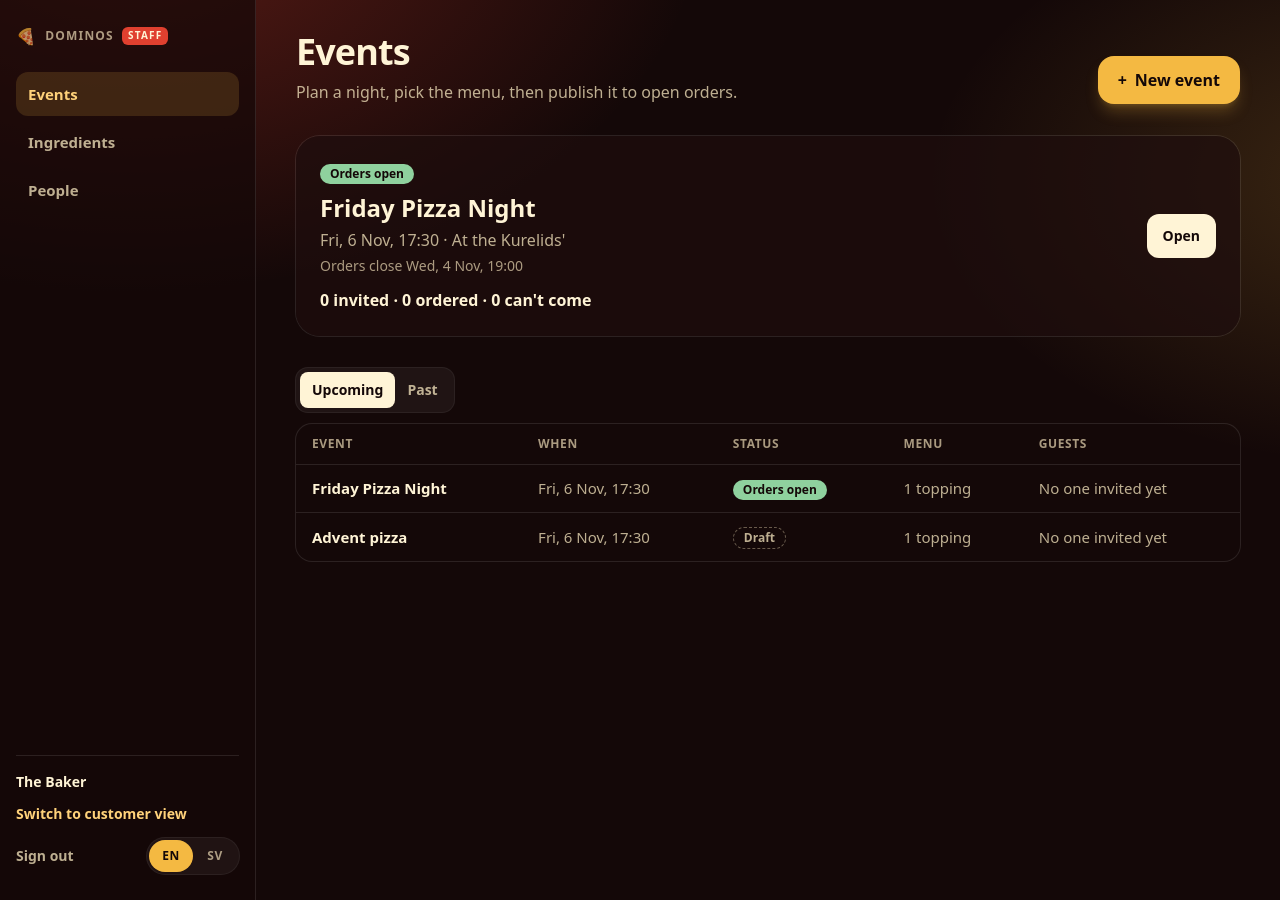
Test case: the events list › shows upcoming events with their status, and past ones on request
Check: the link "Friday Pizza Night" is shown, box [312, 478, 447, 498]
Check: the text "Draft" is shown, box [733, 527, 786, 549]
Click the radio button labelled "Past": (423, 390) [395, 372, 450, 408]
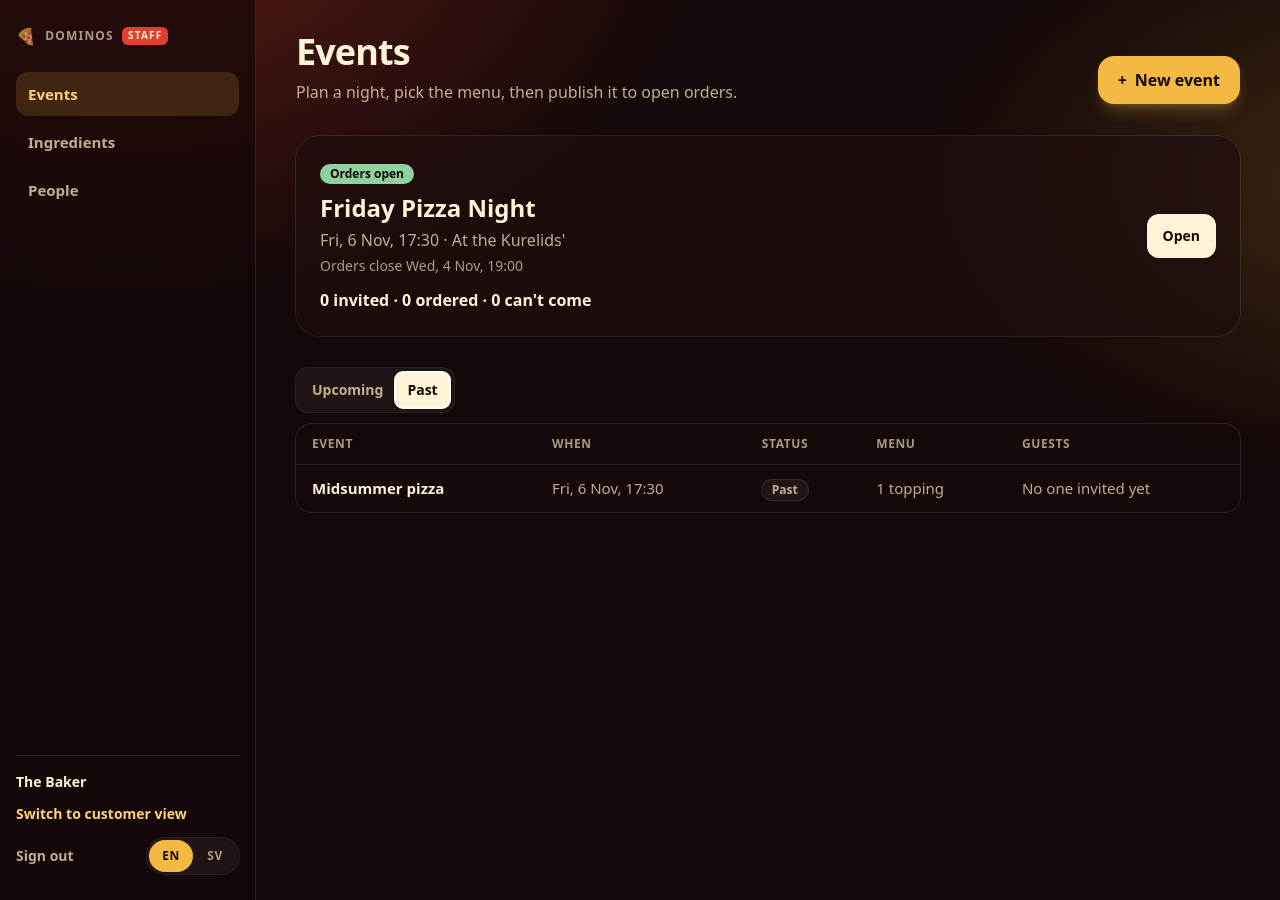
Check: the link "Midsummer pizza" is shown, box [312, 478, 444, 498]
